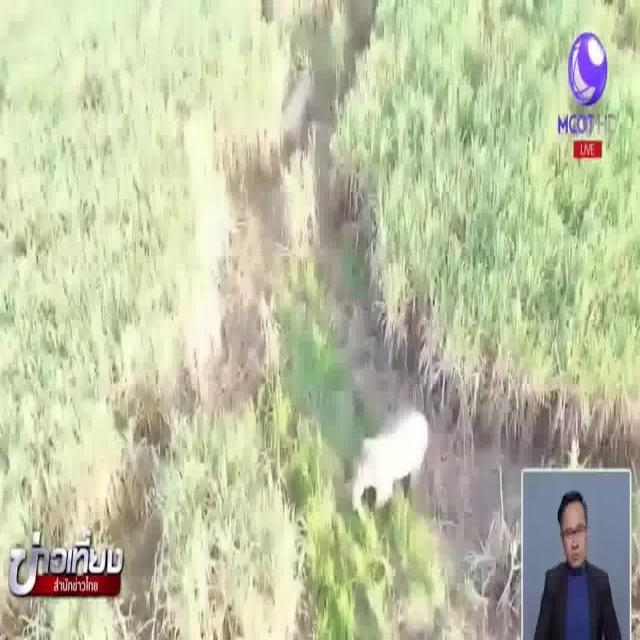Elephant: (353, 410, 427, 506), (282, 71, 312, 135)
